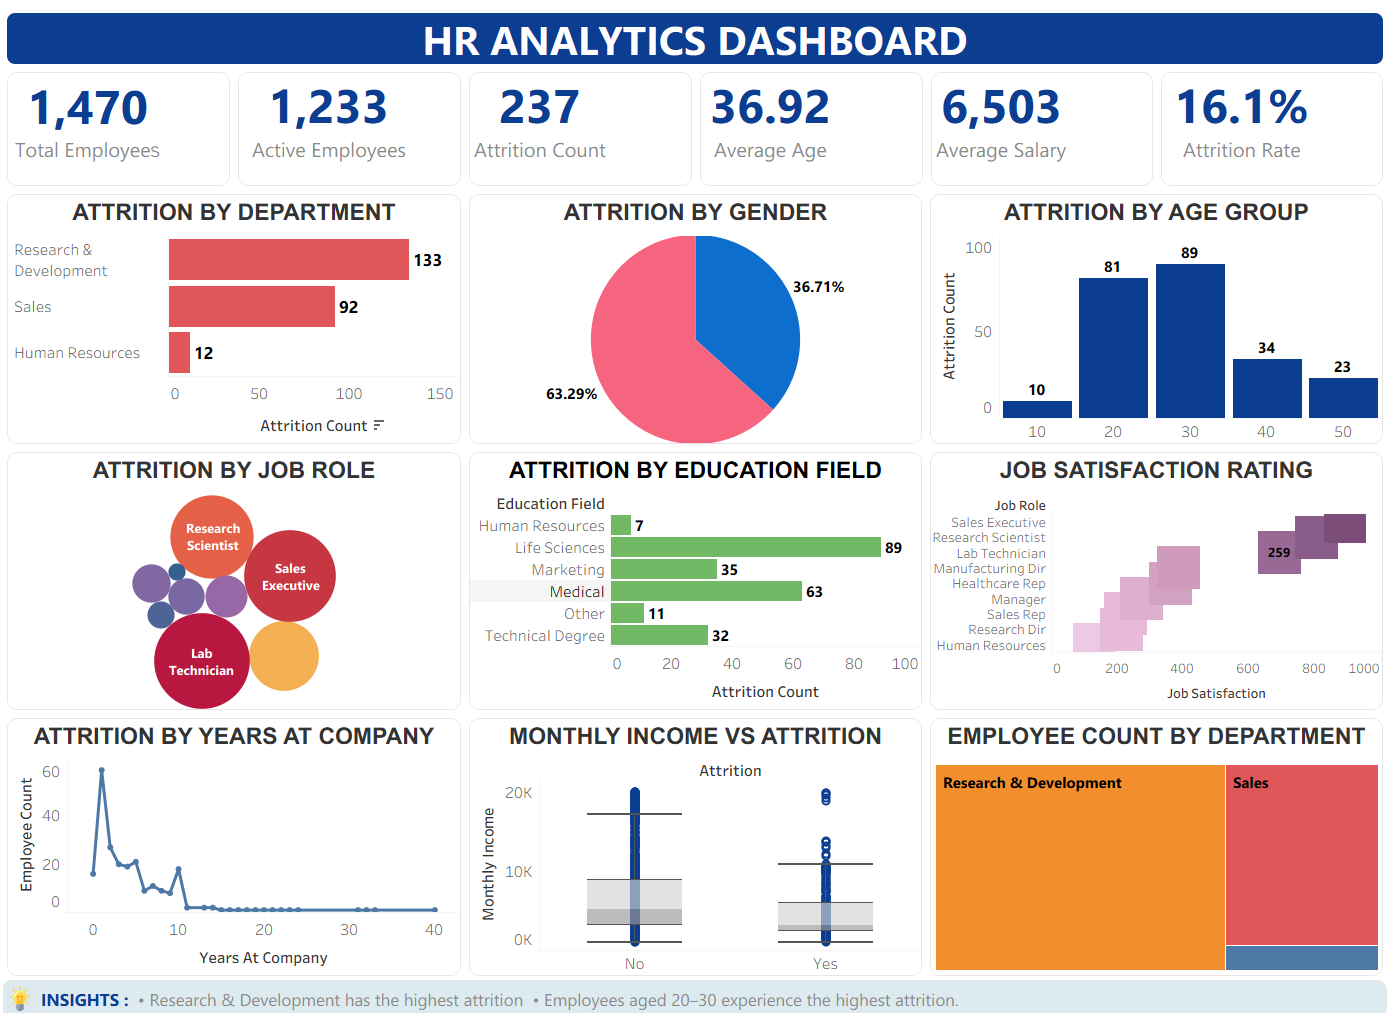

The page's visual inventory and layout, read from the dashboard file:
{"tool":"tableau","page":{"name":"Dashboard 1","canvas":[1400,1040],"ordinal":0},"visuals":[{"type":"text","box":[8,8,1384,59]},{"type":"worksheet","title":"KPI - Total Employees","mark":"Automatic","box":[8,67,231,122]},{"type":"worksheet","title":"KPI - Active Employees","mark":"Automatic","box":[239,67,231,122]},{"type":"worksheet","title":"Attrition Count","mark":"Automatic","box":[470,67,231,122]},{"type":"worksheet","title":"Average Age","mark":"Automatic","box":[701,67,231,122]},{"type":"worksheet","title":"Average Salary","mark":"Automatic","box":[932,67,230,122]},{"type":"worksheet","title":"Attrition Rate","mark":"Automatic","box":[1162,67,230,122]},{"type":"worksheet","title":"ATTRITION BY DEPARTMENT","mark":"Automatic","rows":["Department"],"cols":["Calculation_1272708470464512"],"box":[8,189,462,258]},{"type":"worksheet","title":"ATTRITION BY GENDER","mark":"Pie","box":[470,189,461,258]},{"type":"worksheet","title":"ATTRITION BY AGE GROUP","mark":"Automatic","rows":["Calculation_1272708470464512"],"cols":["Age (bin)"],"box":[931,189,461,258]},{"type":"worksheet","title":"Sheet 11","mark":"Circle","box":[8,447,462,266]},{"type":"worksheet","title":"Sheet 12","mark":"Automatic","rows":["EducationField"],"cols":["Calculation_1272708470464512"],"box":[470,447,461,266]},{"type":"worksheet","title":"Sheet 13","mark":"Square","rows":["JobRole"],"cols":["JobSatisfaction"],"box":[931,447,461,266]},{"type":"worksheet","title":"Sheet 14","mark":"Line","rows":["EmployeeCount"],"cols":["YearsAtCompany"],"box":[8,713,462,266]},{"type":"worksheet","title":"Sheet 15","mark":"Automatic","rows":["MonthlyIncome"],"cols":["Attrition"],"box":[470,713,461,266]},{"type":"worksheet","title":"Sheet 16","mark":"Automatic","box":[931,713,461,266]},{"type":"image","param":"C:/Users/SANJANA JS/Downloads/idea-icon-12424.png","box":[8,979,30,39]},{"type":"text","box":[38,979,1354,39]}]}

Visuals, with their boxes in screenshot pixels (x1, y1, x2, y2), scaled from the page's 1400x1040 canvas onto the 1396x1013 screenshot:
text: [x1=8, y1=8, x2=1388, y2=65]
"KPI - Total Employees" worksheet: [x1=8, y1=65, x2=238, y2=184]
"KPI - Active Employees" worksheet: [x1=238, y1=65, x2=469, y2=184]
"Attrition Count" worksheet: [x1=469, y1=65, x2=699, y2=184]
"Average Age" worksheet: [x1=699, y1=65, x2=929, y2=184]
"Average Salary" worksheet: [x1=929, y1=65, x2=1159, y2=184]
"Attrition Rate" worksheet: [x1=1159, y1=65, x2=1388, y2=184]
"ATTRITION BY DEPARTMENT" worksheet: [x1=8, y1=184, x2=469, y2=435]
"ATTRITION BY GENDER" worksheet (Pie marks): [x1=469, y1=184, x2=928, y2=435]
"ATTRITION BY AGE GROUP" worksheet: [x1=928, y1=184, x2=1388, y2=435]
"Sheet 11" worksheet (Circle marks): [x1=8, y1=435, x2=469, y2=694]
"Sheet 12" worksheet: [x1=469, y1=435, x2=928, y2=694]
"Sheet 13" worksheet (Square marks): [x1=928, y1=435, x2=1388, y2=694]
"Sheet 14" worksheet (Line marks): [x1=8, y1=694, x2=469, y2=954]
"Sheet 15" worksheet: [x1=469, y1=694, x2=928, y2=954]
"Sheet 16" worksheet: [x1=928, y1=694, x2=1388, y2=954]
image: [x1=8, y1=954, x2=38, y2=992]
text: [x1=38, y1=954, x2=1388, y2=992]
